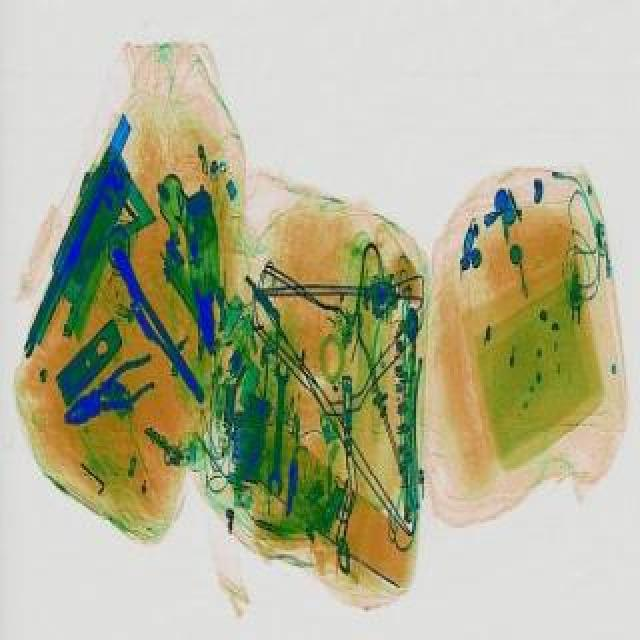scissors: (264, 360, 290, 492)
wrench: (52, 346, 166, 432)
